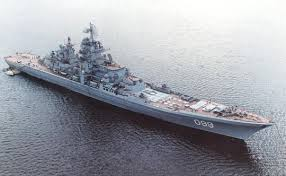tau_muctieu: (5, 47, 271, 143)
